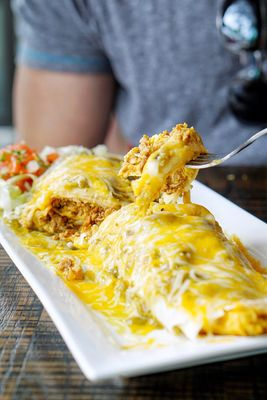sushi: (0, 104, 266, 384)
